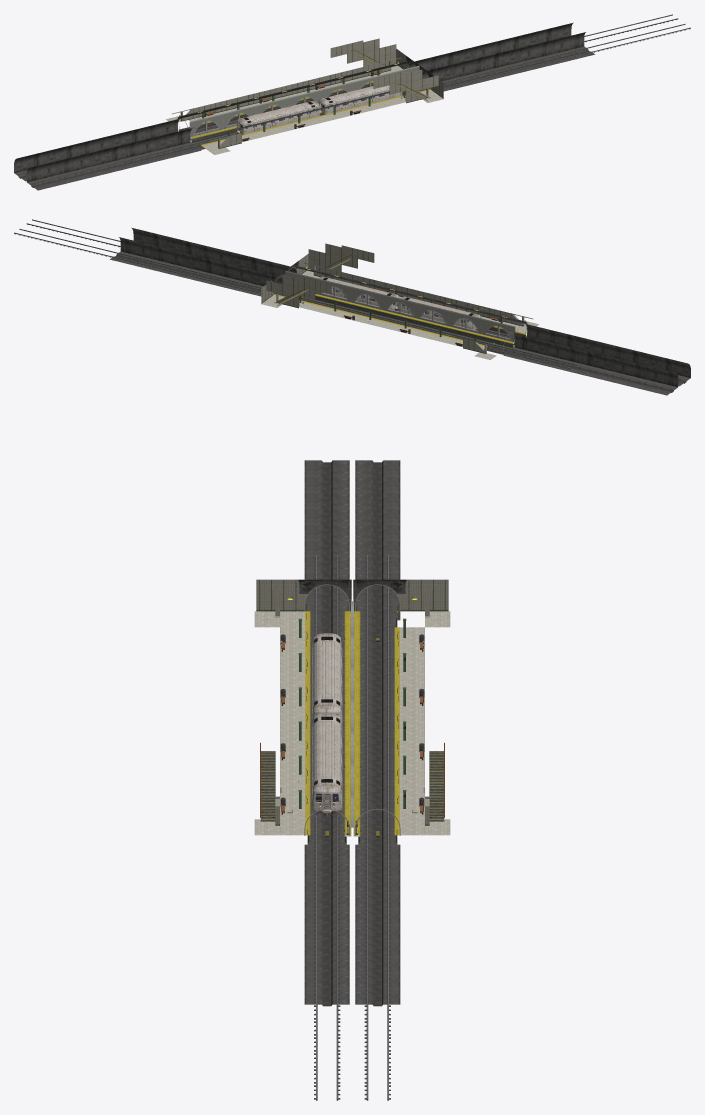
The model's file is station.glb.
3 renders of one model, top to bottom at view 1: azimuth 30°, elevation 25°; view 2: azimuth 150°, elevation 25°; view 3: azimuth 270°, elevation 25°, orthographic. The views are drawn at different scales.
Parts seen in each view (by area): view 1: TunelModular_LP.008, TunelModular_LP.003, TunelModular_LP.002, TunelModular_LP.001, Vias_LP, TunelModular_LP, ParedModularAlternativa_LP, SueloViasTunel_LP.009, ParedTunel_LP, ParedSeparatoriaAndanas_LP.006, SueloViasTunel_LP.004, SueloViasTunel_LP.007 (+8 smaller); view 2: Vias_LP, TunelModular_LP.008, TunelModular_LP.003, TunelModular_LP.002, TunelModular_LP.001, TunelModular_LP, ParedModularAlternativa_LP, SueloViasTunel_LP.009, ParedTunel_LP, ParedSeparatoriaAndanas_LP.003, ParedSeparatoriaAndanas_LP.004, ParedSeparatoriaAndanas_LP.002 (+12 smaller); view 3: Vias_LP, ParedTunel_LP, SueloViasTunel_LP.005, SueloViasTunel_LP.006, SueloViasTunel_LP.007, SueloViasTunel_LP.008, SueloViasTunel_LP.009, SueloViasTunel_LP.004, SueloViasTunel_LP.003, SueloViasTunel_LP, SueloViasTunel_LP.001, SueloViasTunel_LP.002 (+9 smaller).
Part boxes in pixels (<box>): TunelModular_LP.008: <box>14,22,585,181</box>; TunelModular_LP.003: <box>46,30,552,174</box>; TunelModular_LP.002: <box>79,38,520,166</box>; TunelModular_LP.001: <box>112,47,487,158</box>; Vias_LP: <box>128,14,690,164</box>; TunelModular_LP: <box>145,55,454,150</box>; ParedModularAlternativa_LP: <box>172,58,438,148</box>; SueloViasTunel_LP.009: <box>14,46,594,190</box>; ParedTunel_LP: <box>177,49,443,140</box>; ParedSeparatoriaAndanas_LP.006: <box>189,114,224,139</box>; SueloViasTunel_LP.004: <box>109,66,512,170</box>; SueloViasTunel_LP.007: <box>60,54,562,182</box>; Vias_LP: <box>14,219,576,369</box>; TunelModular_LP.008: <box>119,227,690,386</box>; TunelModular_LP.003: <box>152,235,658,379</box>; TunelModular_LP.002: <box>184,243,625,371</box>; TunelModular_LP.001: <box>217,252,592,363</box>; TunelModular_LP: <box>250,260,559,355</box>; ParedModularAlternativa_LP: <box>266,263,532,353</box>; SueloViasTunel_LP.009: <box>110,251,690,395</box>; ParedTunel_LP: <box>261,254,527,345</box>; ParedSeparatoriaAndanas_LP.003: <box>382,294,416,320</box>; ParedSeparatoriaAndanas_LP.004: <box>415,302,449,328</box>; ParedSeparatoriaAndanas_LP.002: <box>349,286,383,312</box>; Vias_LP: <box>314,555,390,1100</box>; ParedTunel_LP: <box>256,579,448,835</box>; SueloViasTunel_LP.005: <box>304,524,400,942</box>; SueloViasTunel_LP.006: <box>304,508,400,958</box>; SueloViasTunel_LP.007: <box>304,492,400,974</box>; SueloViasTunel_LP.008: <box>304,476,400,990</box>; SueloViasTunel_LP.009: <box>304,460,400,1006</box>; SueloViasTunel_LP.004: <box>304,540,400,926</box>; SueloViasTunel_LP.003: <box>304,556,400,910</box>; SueloViasTunel_LP: <box>304,604,400,862</box>; SueloViasTunel_LP.001: <box>304,588,400,878</box>; SueloViasTunel_LP.002: <box>304,572,400,894</box>.
Size of the model in its own units: 200 by 10.91 by 27.29.
Materials: 39 (38 with a texture image).
